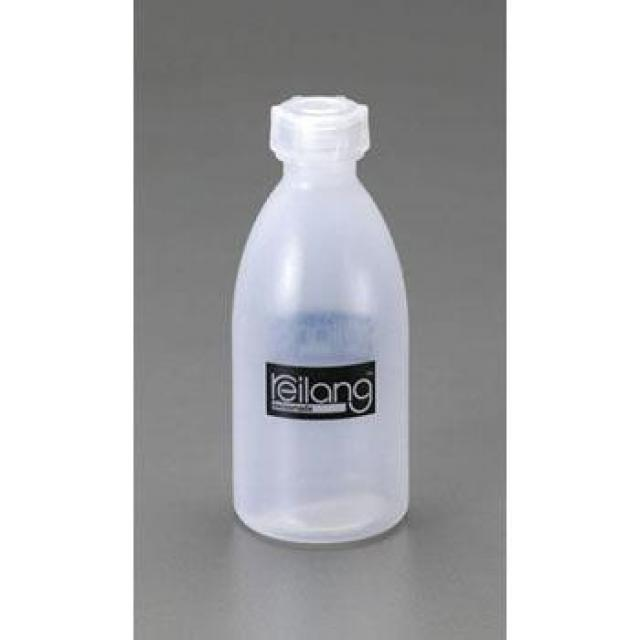plastic_bottle: (228, 91, 418, 550)
